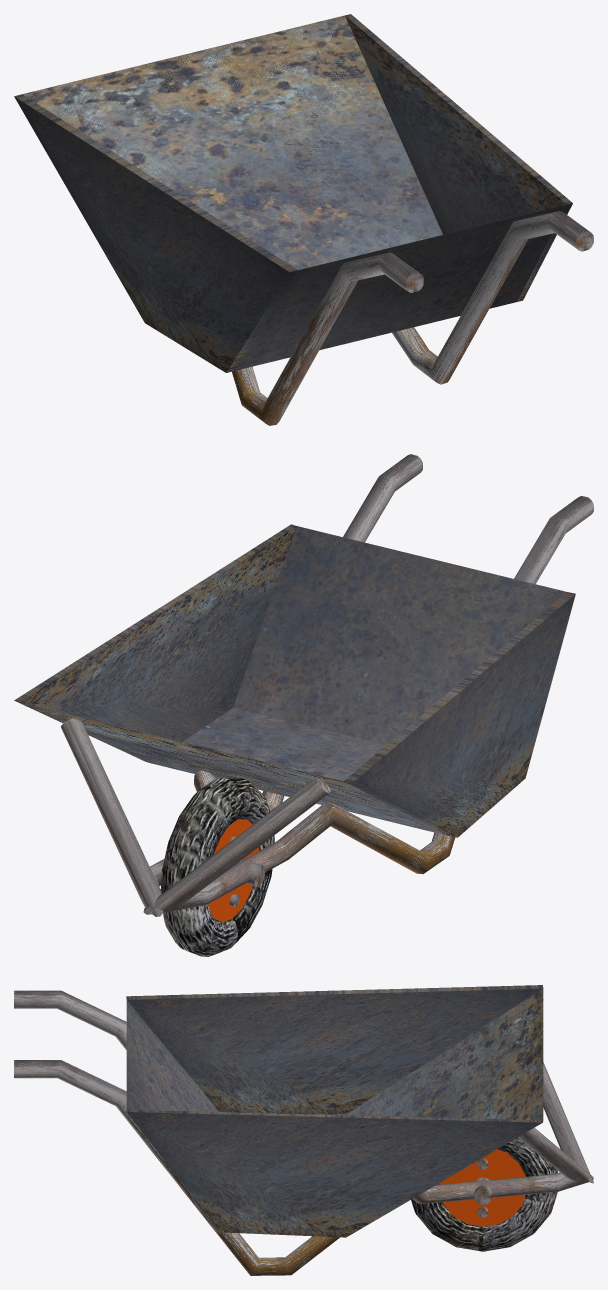
The model's file is itirinn.fbx.
The picture shows the model from 3 angles, top to bottom: view 1: azimuth 30°, elevation 25°; view 2: azimuth 150°, elevation 25°; view 3: azimuth 270°, elevation 25°; orthographic projection. The views are drawn at different scales.
Visible parts, largest first — view 1: スイープ_2; view 2: スイープ_2; view 3: スイープ_2.
Boxes of the visible parts, x1,y1,x2,y2 form: スイープ_2: (14,14,593,425); スイープ_2: (14,454,593,956); スイープ_2: (14,985,593,1275).
Bounding box in the file's own units: 251 × 190 × 447.
Materials: 5 (5 with a texture image).
